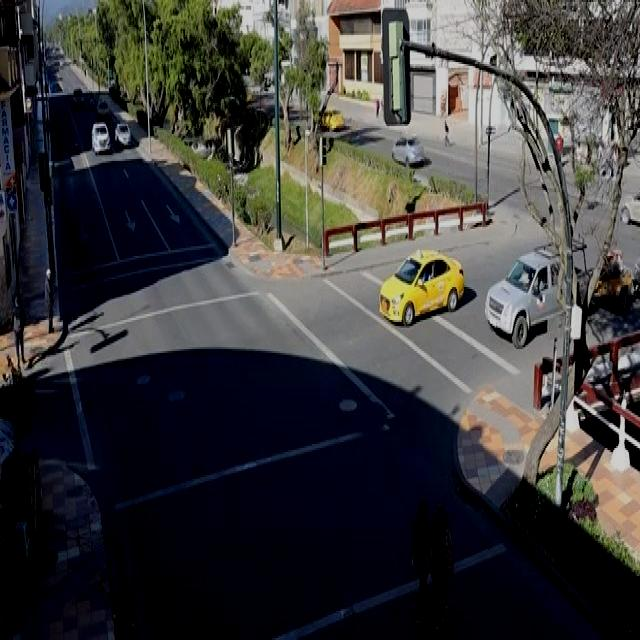CMT: (488, 246, 597, 342)
